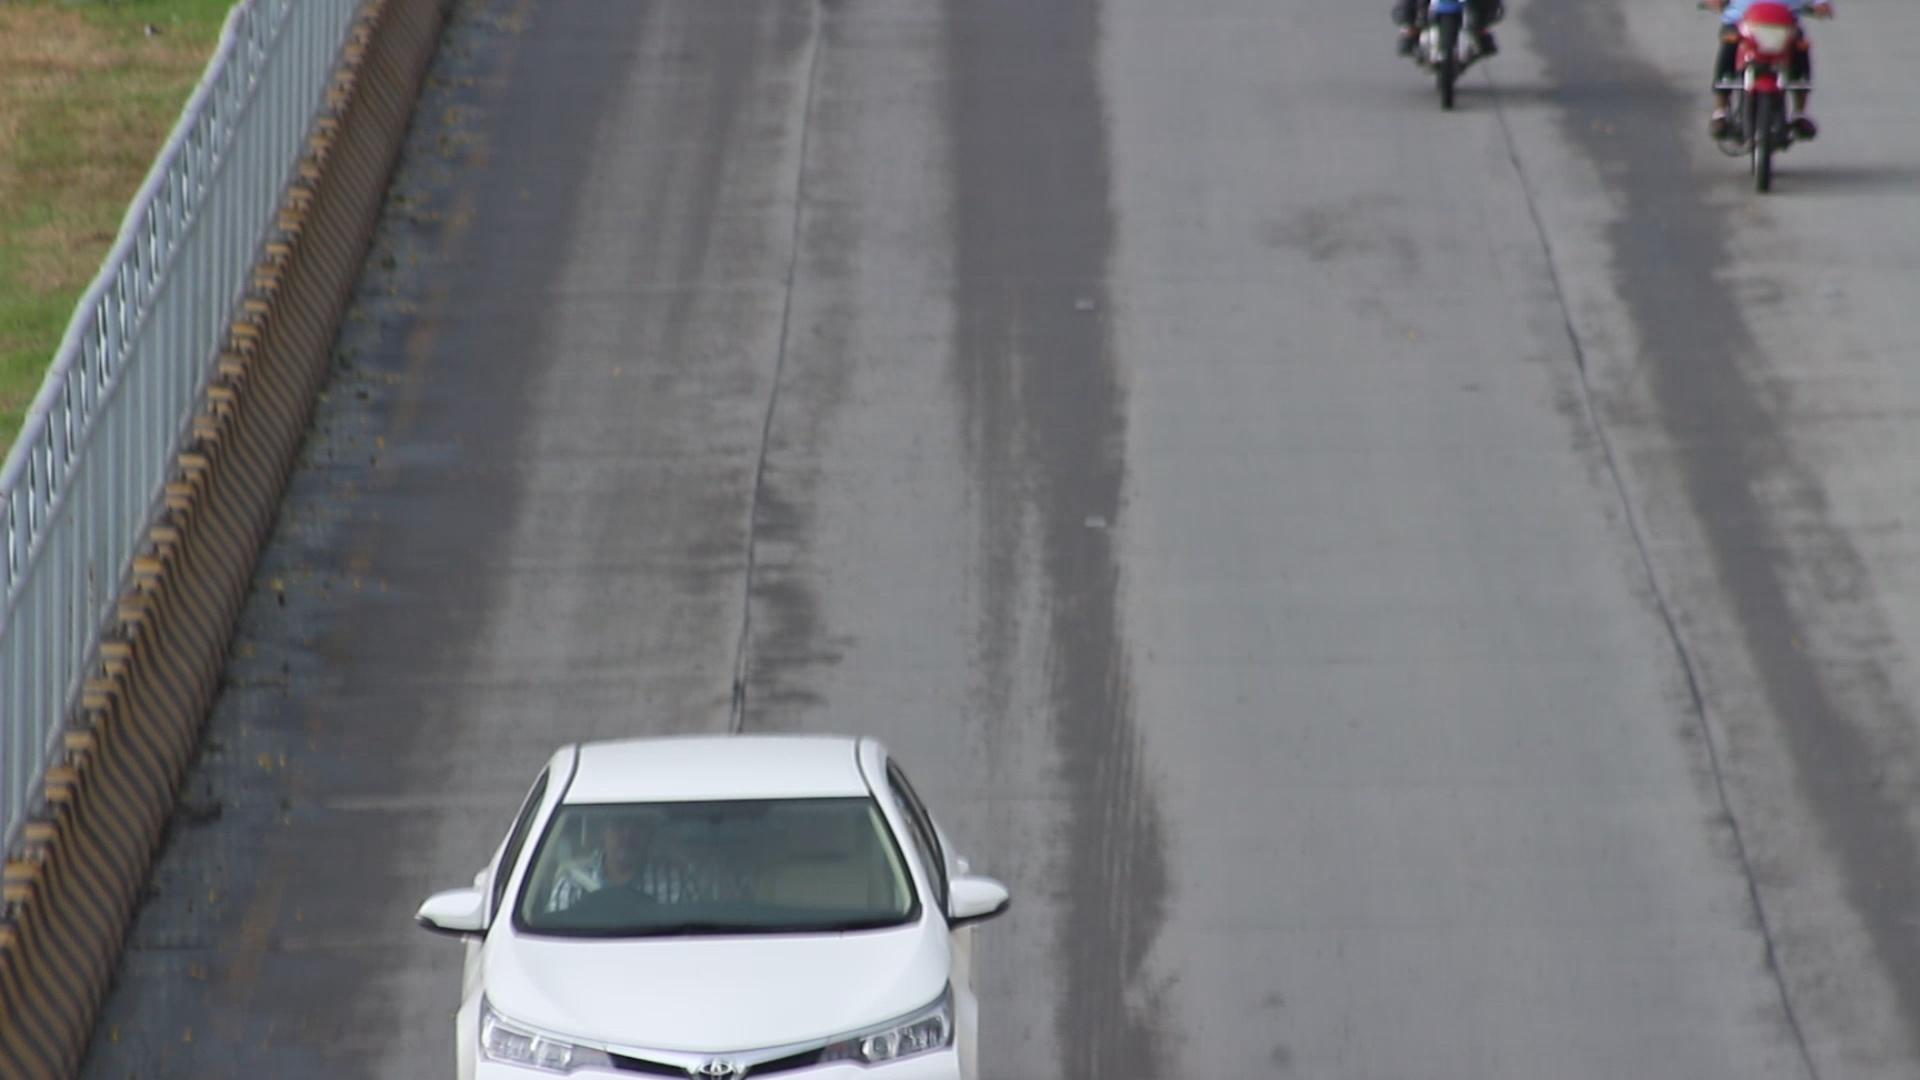windshield: (488, 781, 940, 934)
